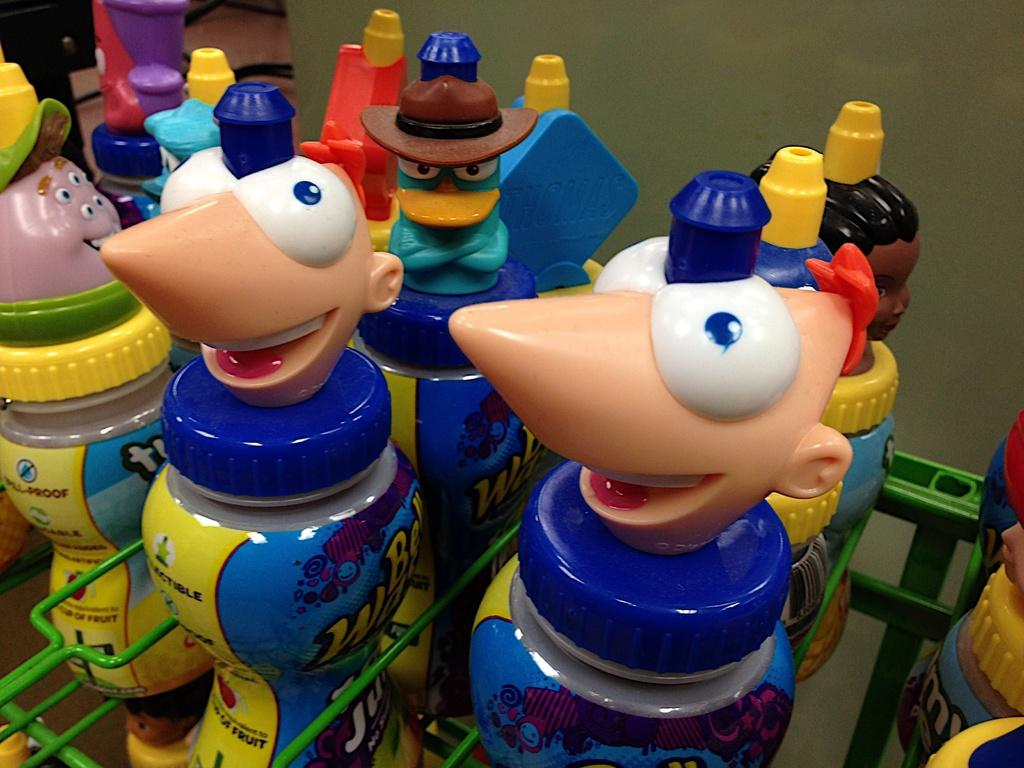Hat: (358, 36, 544, 168), (0, 54, 74, 186)
